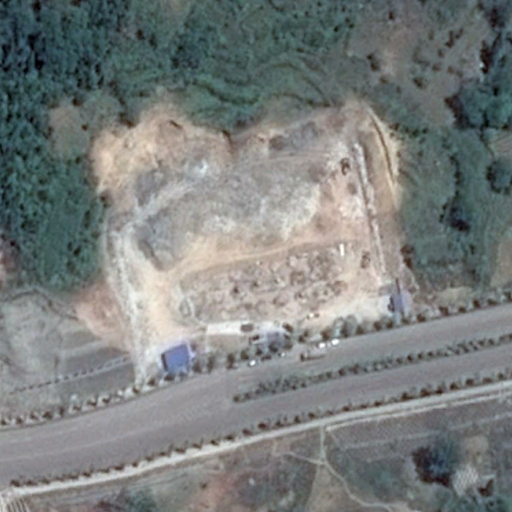msw: (115, 127, 378, 333)
